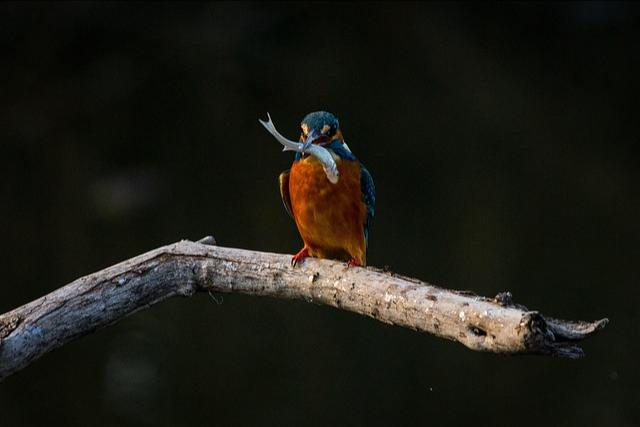Non_Gorille: (64, 5, 606, 427)
